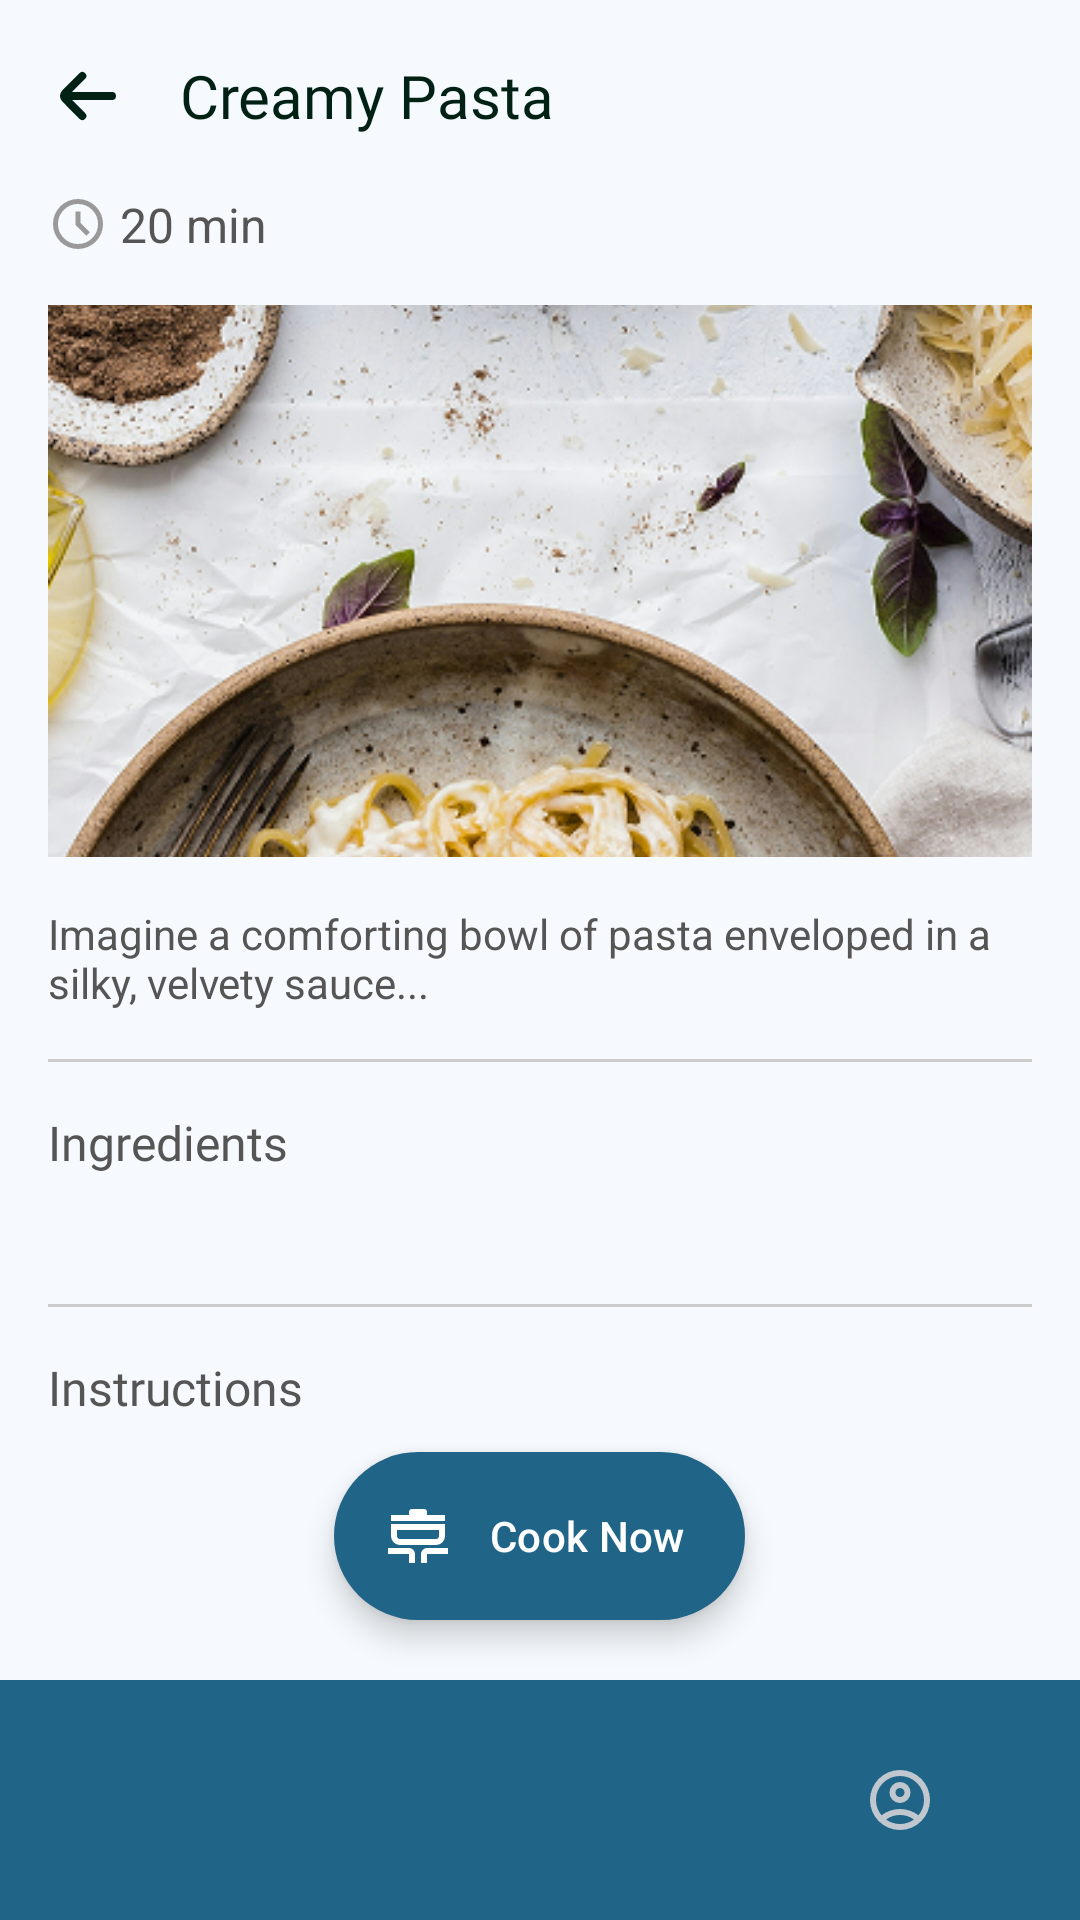

Where to tap for icons on this 1080×1920 app screen, as (x,y):
clock: (78,224)
